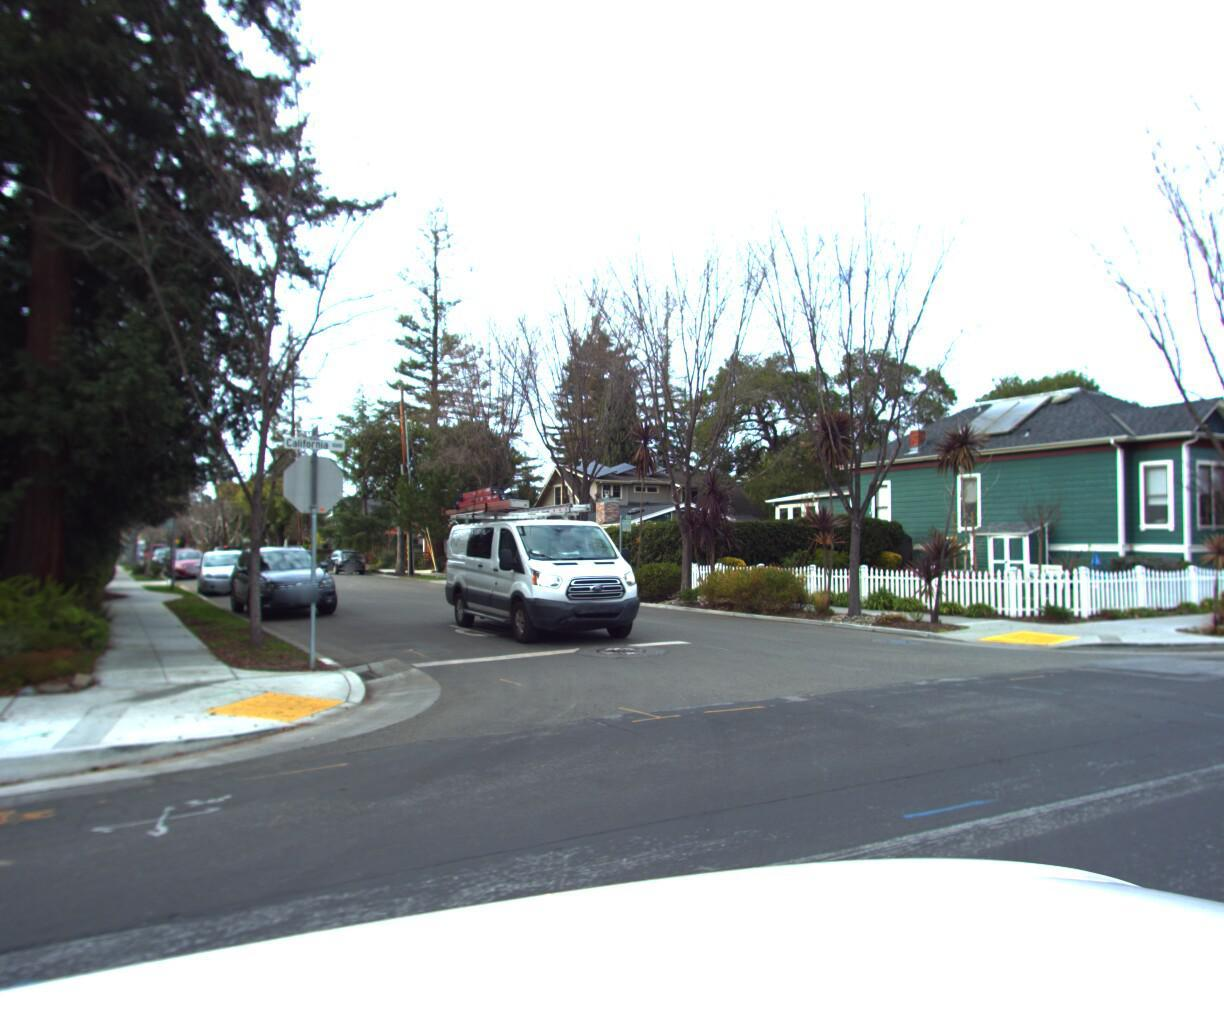car: (430, 471, 663, 647), (225, 546, 347, 624), (192, 548, 263, 596), (170, 548, 217, 581), (320, 546, 372, 573)
